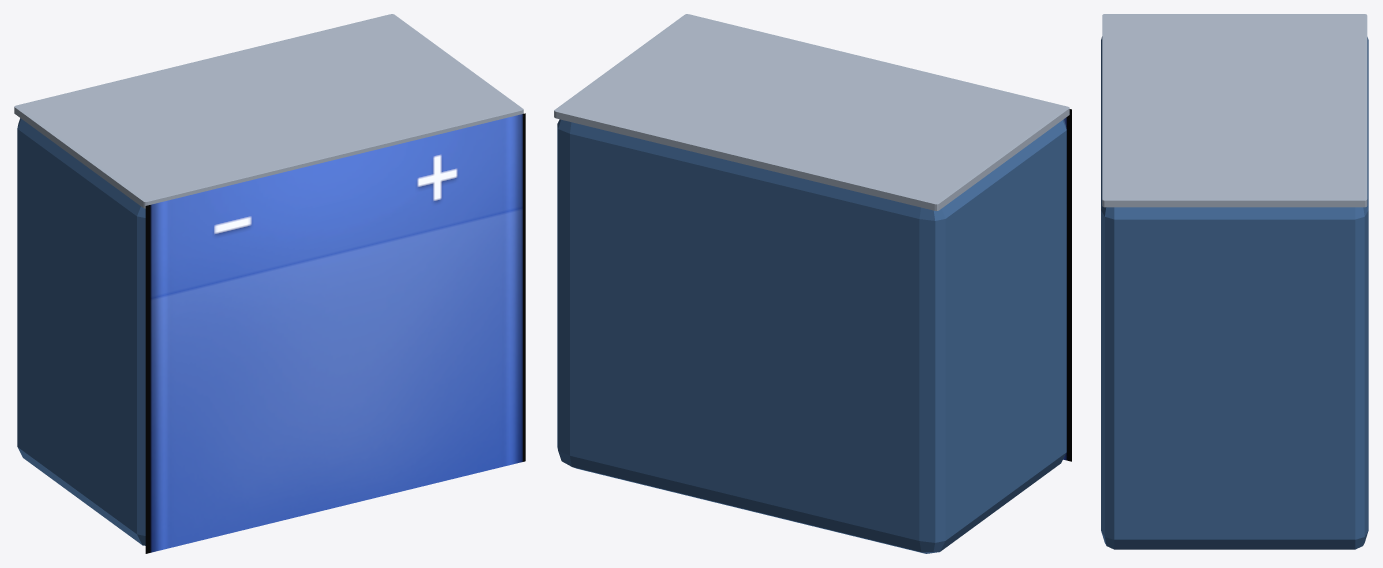
Rendered from battery.glb.
3 views of the same model, side by side, from view 1: azimuth 30°, elevation 25°; view 2: azimuth 150°, elevation 25°; view 3: azimuth 270°, elevation 25° (orthographic).
Parts seen in each view (by area): view 1: frontphoto, cap, shell; view 2: shell, cap, frontphoto; view 3: shell, cap.
Part boxes in pixels (x1,y1,x2,y2): frontphoto: (145, 113, 525, 553); cap: (14, 14, 523, 208); shell: (17, 118, 145, 545); shell: (557, 119, 1066, 553); cap: (554, 14, 1069, 210); frontphoto: (1063, 109, 1071, 461); shell: (1101, 36, 1368, 549); cap: (1102, 14, 1367, 207).
Bounding box in the file's own units: 1.5 × 1.32 × 0.902.
Materials: 3 (1 with a texture image).
